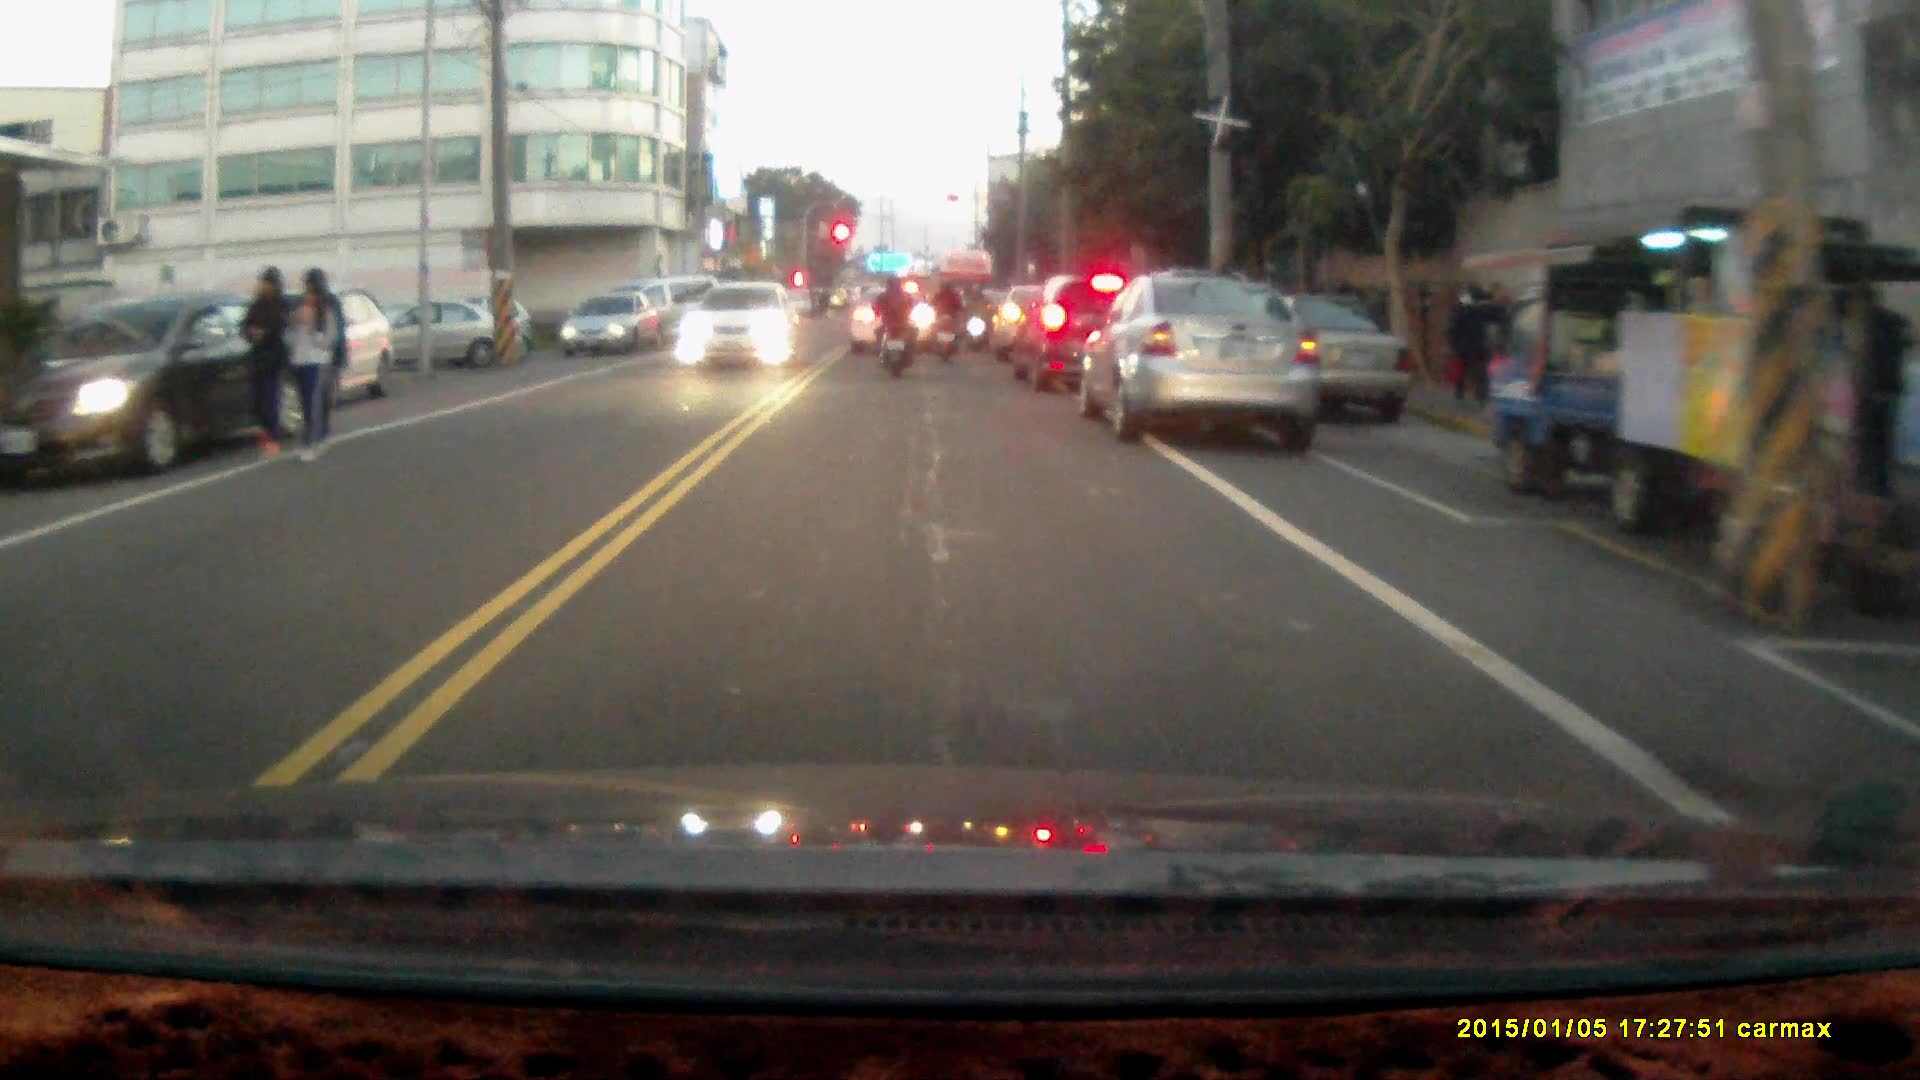pedestrian: (1852, 279, 1913, 500), (283, 266, 338, 463), (237, 265, 285, 463), (1451, 284, 1489, 408), (1479, 281, 1516, 400)
rider: (868, 274, 914, 382), (926, 275, 965, 362)
vehicle: (1474, 218, 1897, 532), (5, 297, 295, 491), (1088, 277, 1321, 449), (213, 290, 393, 424), (1017, 279, 1174, 400), (674, 285, 797, 376), (557, 295, 653, 363), (850, 293, 939, 361)
